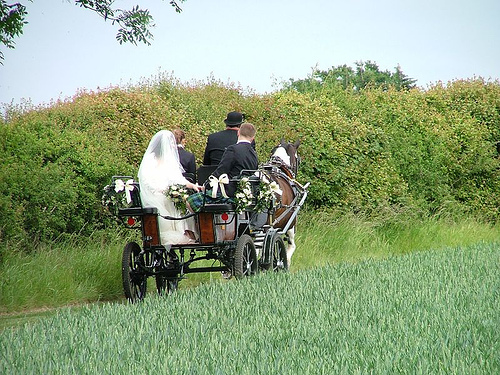horse: (243, 136, 304, 272)
